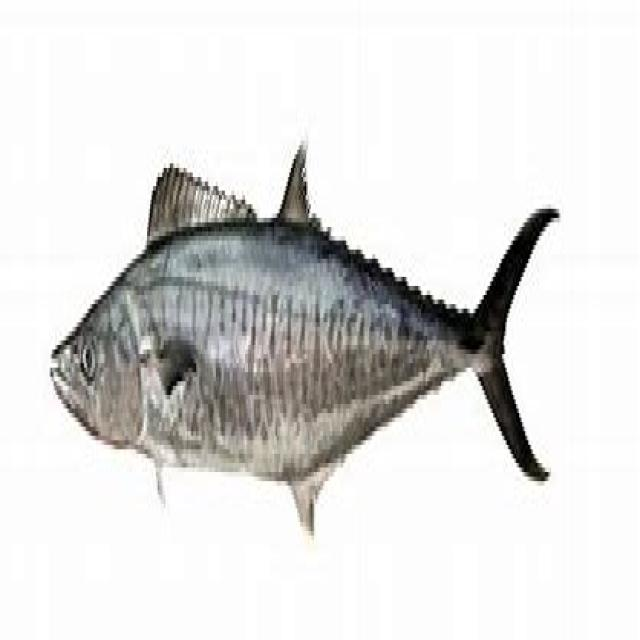seer: (52, 147, 562, 532)
